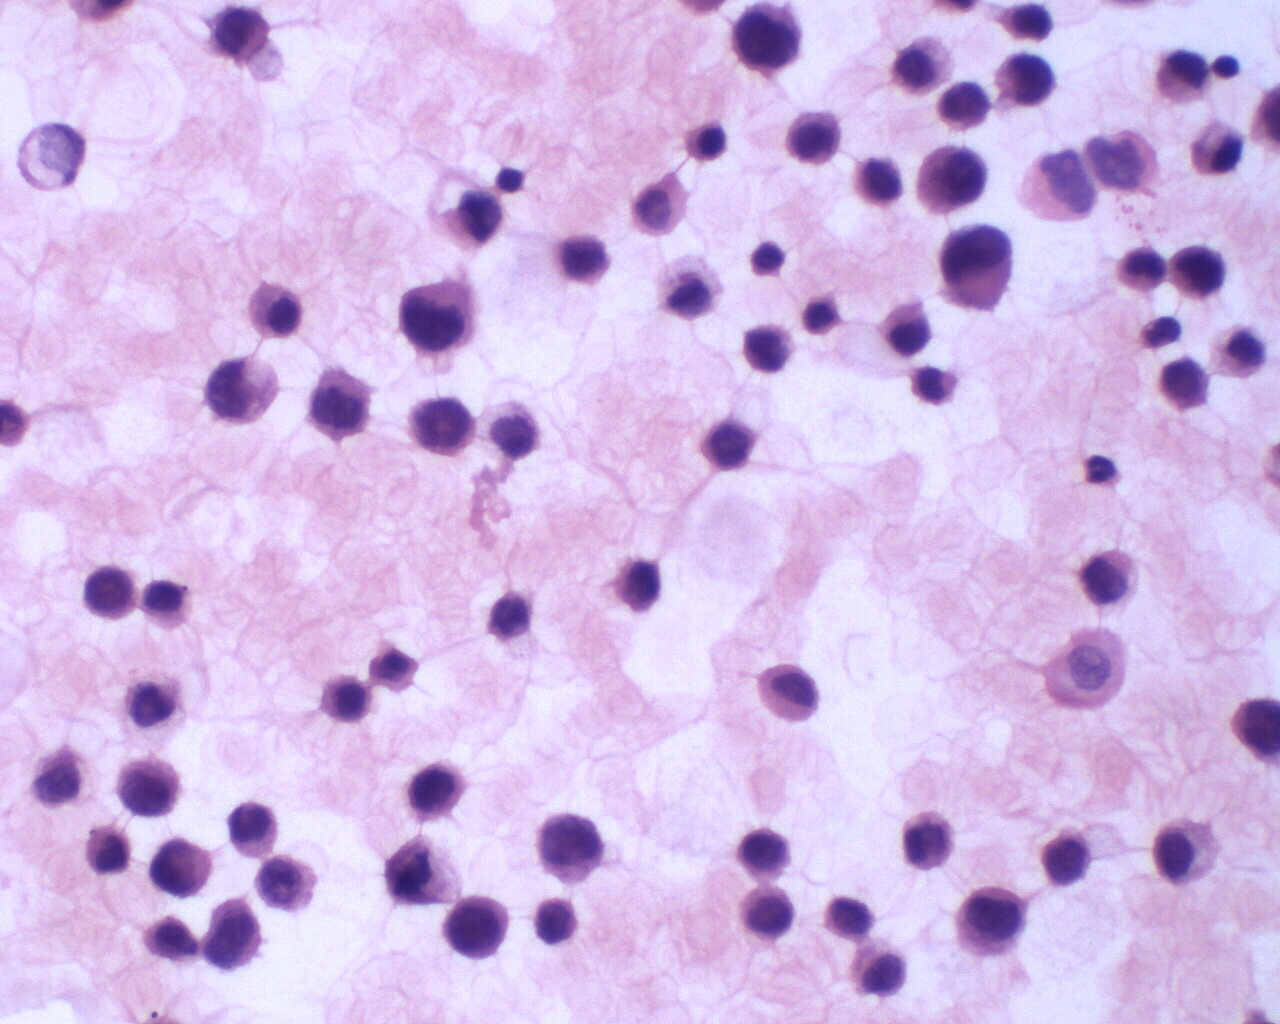ab: (938, 223, 1023, 317), (392, 271, 481, 357), (945, 879, 1030, 960), (534, 802, 610, 891), (727, 1, 804, 82), (917, 139, 990, 218), (436, 892, 513, 962), (197, 894, 265, 973), (115, 753, 184, 825), (403, 391, 474, 460), (894, 809, 965, 875), (146, 835, 215, 901), (404, 758, 470, 825), (251, 853, 321, 915), (206, 3, 272, 69), (1166, 236, 1228, 304), (222, 797, 285, 861), (1078, 542, 1137, 610), (782, 109, 844, 171), (994, 50, 1058, 111), (80, 562, 140, 627), (1155, 354, 1214, 418), (737, 881, 798, 941), (1039, 825, 1094, 891), (737, 317, 797, 376), (734, 825, 796, 881), (699, 415, 755, 474), (532, 889, 584, 953), (822, 892, 877, 945)
lymph: (490, 162, 529, 199)
meso: (1150, 814, 1221, 889), (245, 278, 306, 341), (680, 115, 730, 166)
neutro: (1080, 443, 1126, 490)
